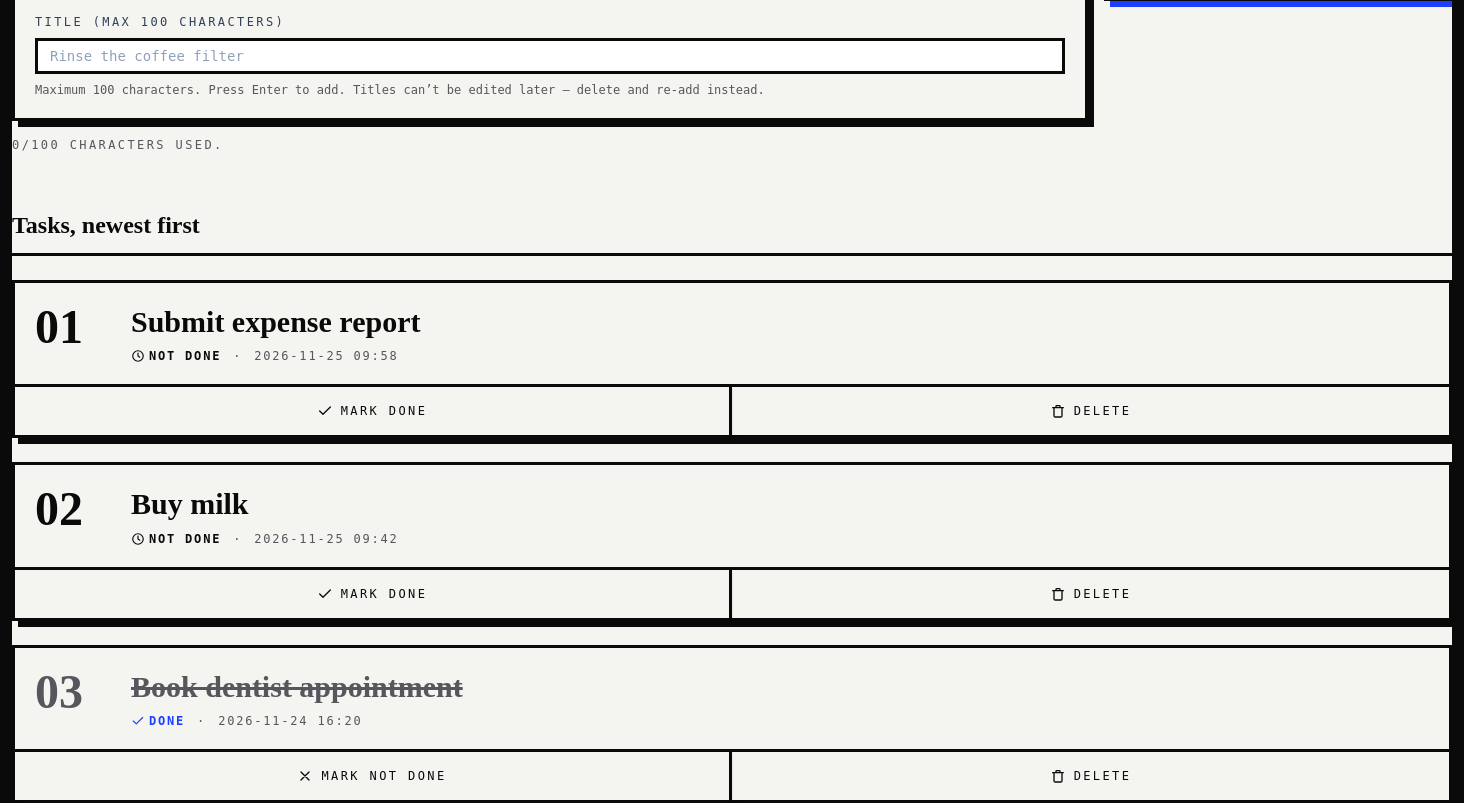
it: Tasks — one global list shared by every visitor › [AC-012] marks a task added by another visitor done and not done again
(page scrolled)
Expected: the heading "Buy milk" is shown, x1=131 y1=487 x2=248 y2=520
Click the button with test id "mark-done-btn" at (374, 594), box x1=15 y1=570 x2=732 y2=618
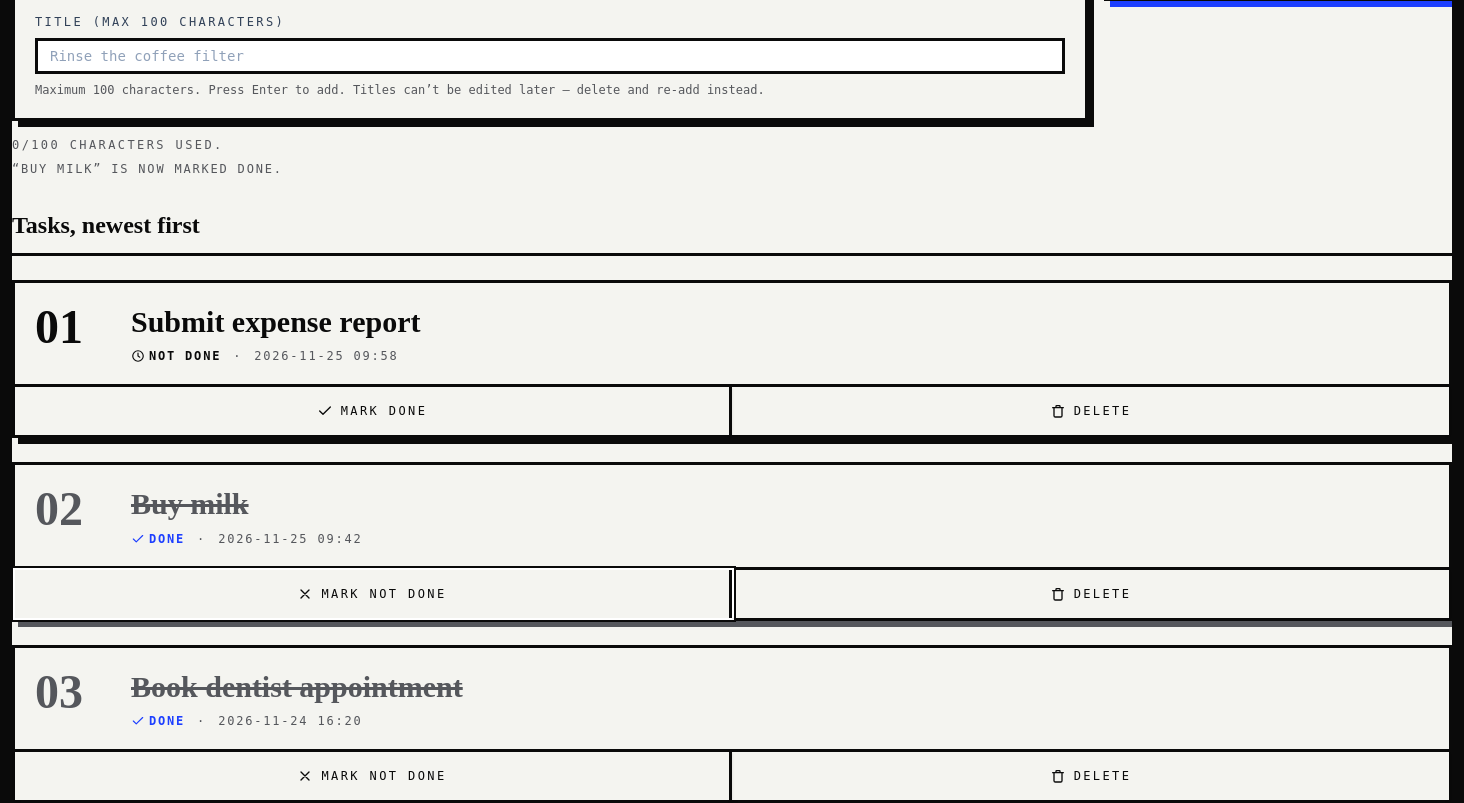
Expected: the text "Done" next to "2026-11-25 09:42" is shown, x1=149 y1=532 x2=185 y2=546
Click the button with test id "mark-not-done-btn" at (374, 594), box x1=15 y1=570 x2=732 y2=618
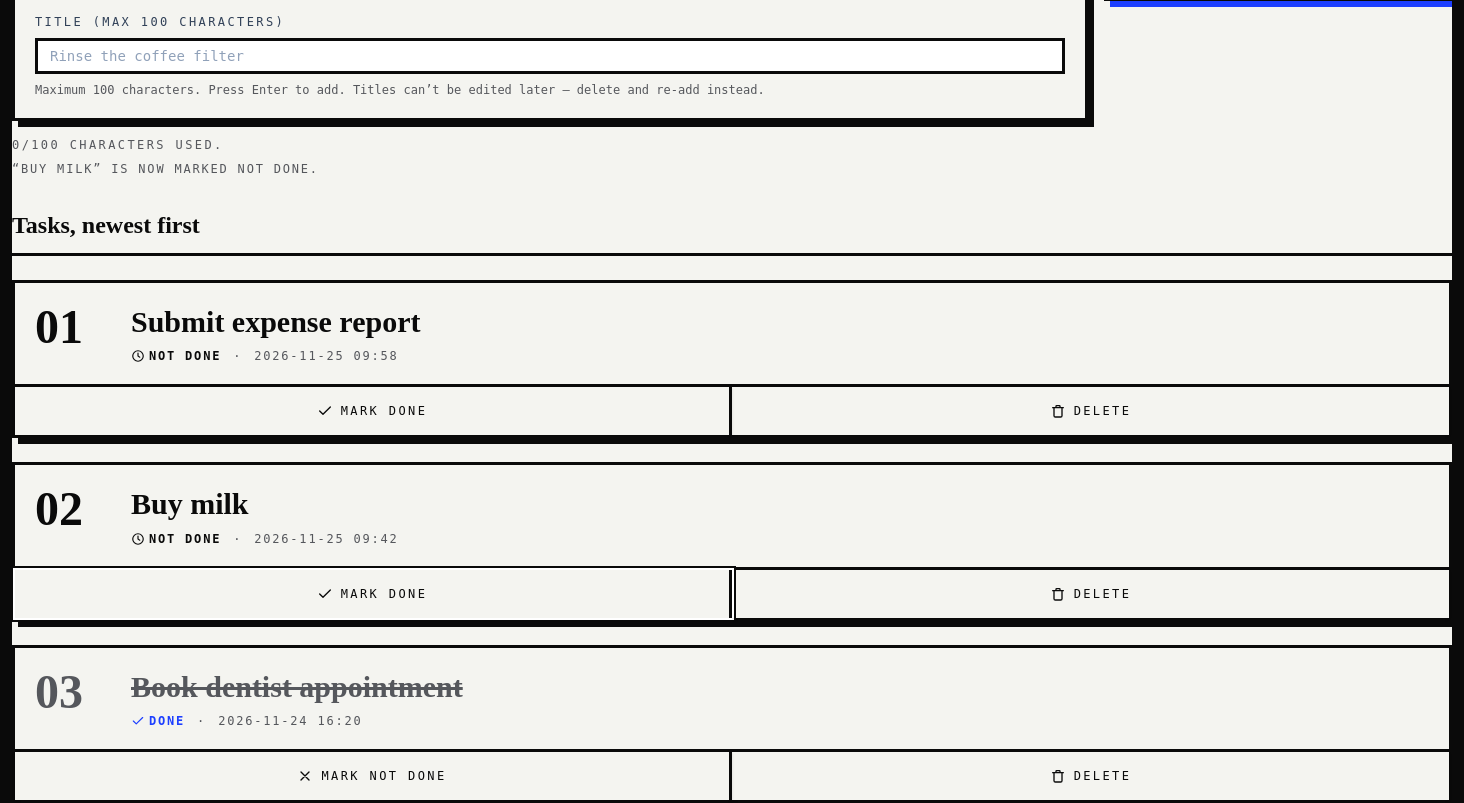
Expected: the text "Not done" next to "2026-11-25 09:42" is shown, x1=149 y1=532 x2=221 y2=546
